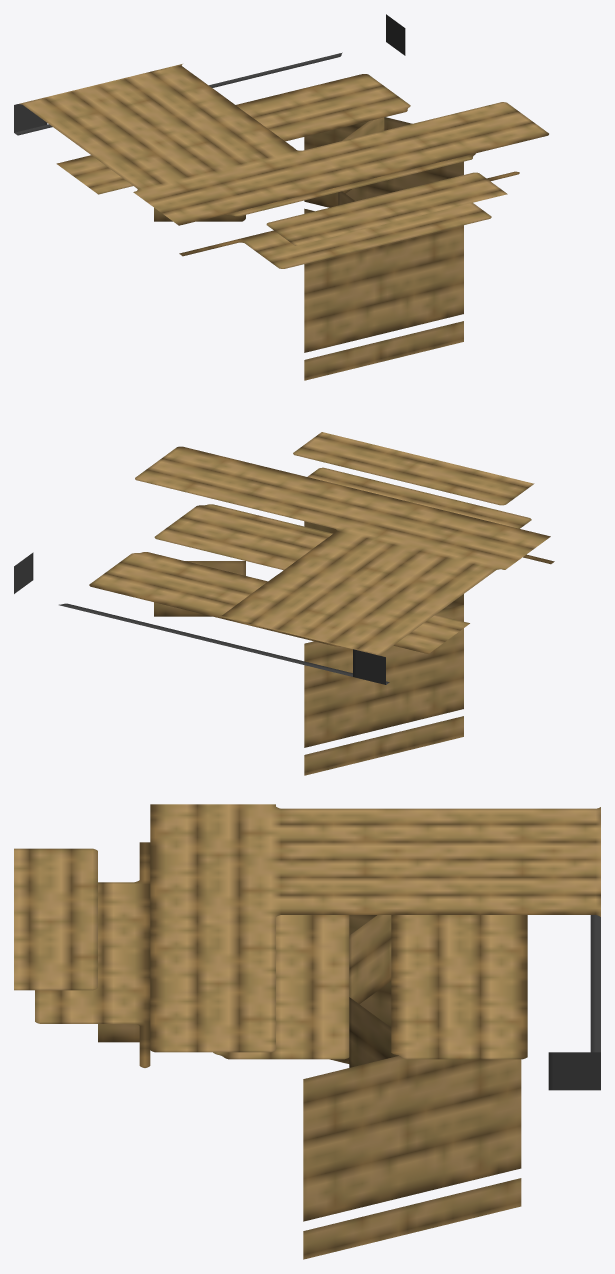
3 views of the same model, one above another, from view 1: azimuth 30°, elevation 25°; view 2: azimuth 150°, elevation 25°; view 3: azimuth 270°, elevation 25° (orthographic). The views are drawn at different scales.
Visible parts, largest first — view 1: base; view 2: base; view 3: base.
Part boxes in pixels (x1,y1,x2,y2): base: (14, 14, 548, 380); base: (14, 432, 554, 775); base: (14, 804, 600, 1259).
Size of the model in its own units: 0.875 by 0.375 by 0.875.
